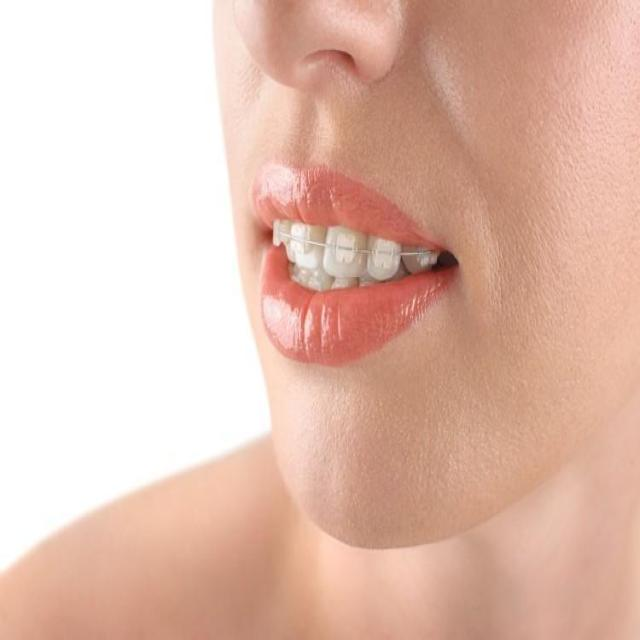tooth: (318, 222, 363, 271), (397, 242, 439, 267), (270, 218, 294, 258), (294, 226, 319, 263), (370, 242, 395, 274)
